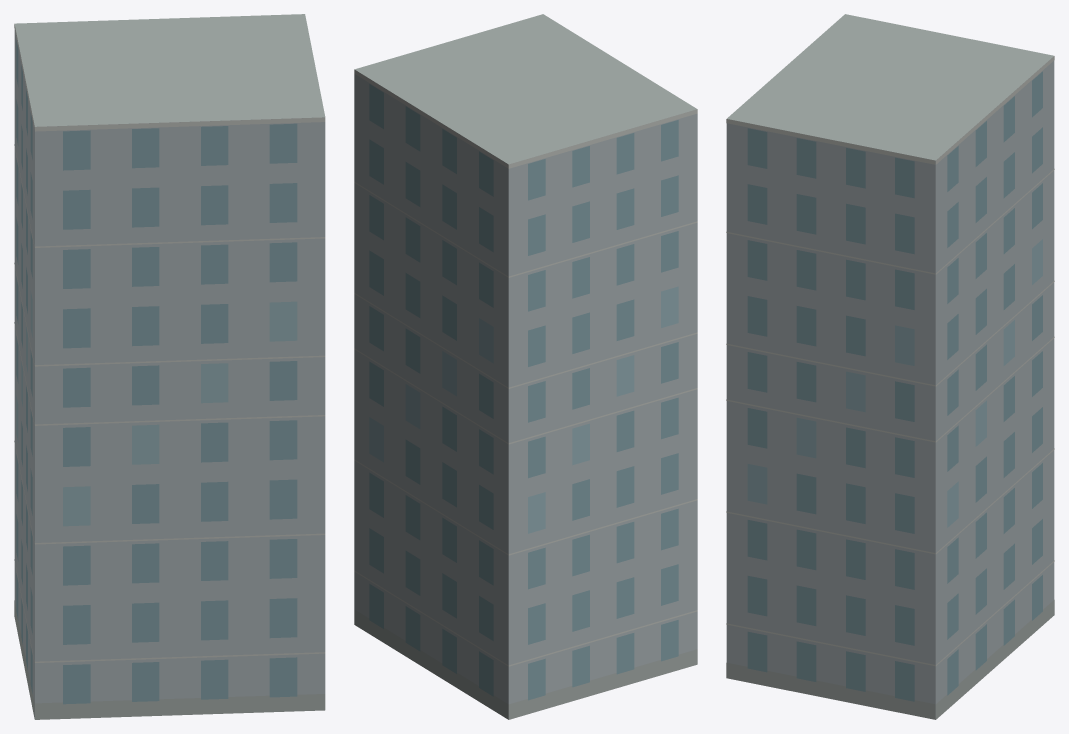
Rendered from survey-upis-33011466.glb.
3 views of the same model, side by side, from view 1: azimuth 30°, elevation 25°; view 2: azimuth 150°, elevation 25°; view 3: azimuth 270°, elevation 25° (orthographic). The views are drawn at different scales.
Visible parts, largest first — view 1: survey-upis-33011466.tmp; view 2: survey-upis-33011466.tmp; view 3: survey-upis-33011466.tmp.
Boxes of the visible parts, left/top/right/bottom form: survey-upis-33011466.tmp: left=14, top=14, right=325, bottom=719; survey-upis-33011466.tmp: left=354, top=14, right=697, bottom=719; survey-upis-33011466.tmp: left=726, top=14, right=1054, bottom=719.
Bounding box in the file's own units: 17.44 × 31 × 16.5.
